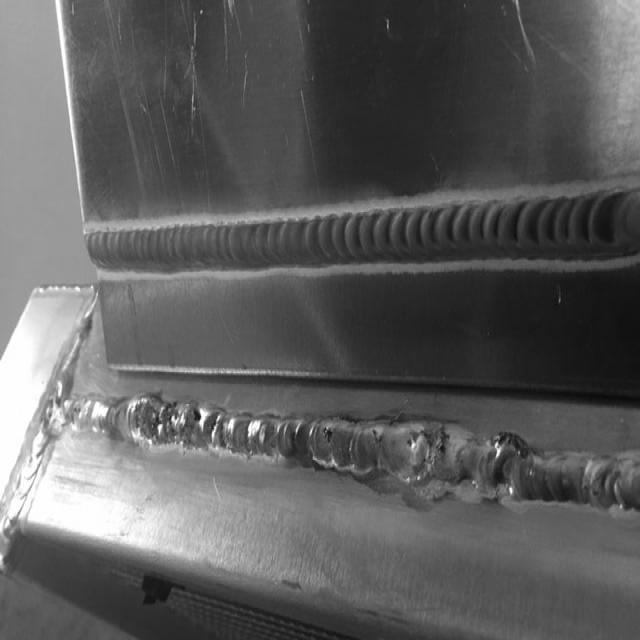Bad Welding: (56, 392, 635, 516)
Porosity: (149, 404, 202, 432)
